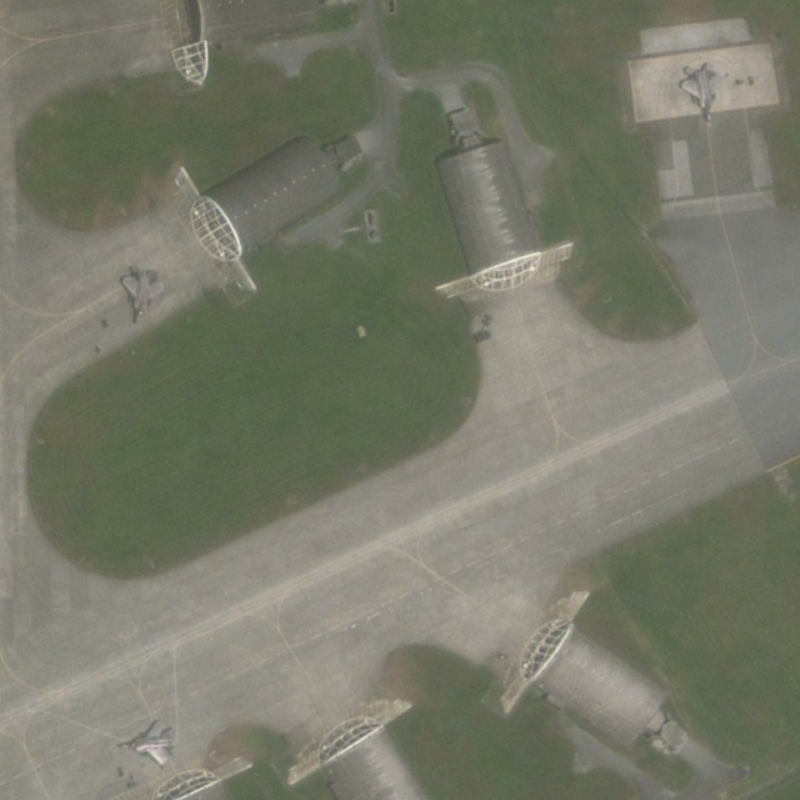A15: (109, 711, 181, 774), (675, 55, 732, 134), (115, 261, 177, 329)
